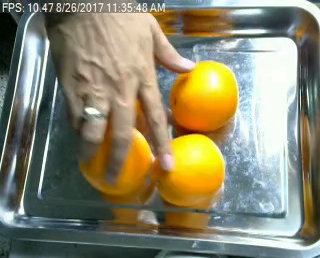Orange: (168, 59, 239, 132), (156, 133, 225, 205)
